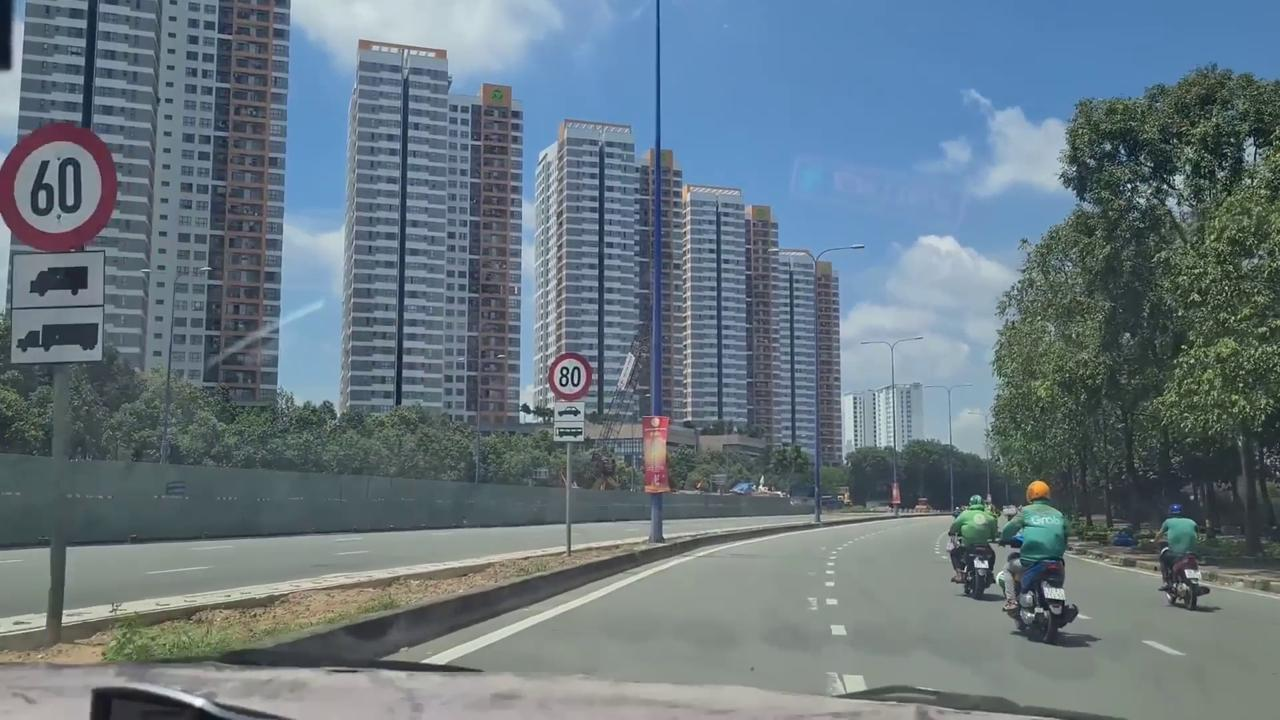Biển phụ: (8, 250, 106, 363), (551, 398, 585, 442)
GIơi hạn tốc độ 60Km/h: (2, 120, 118, 254)
Giới hạn tốc độ 80Km/h: (546, 351, 593, 402)
